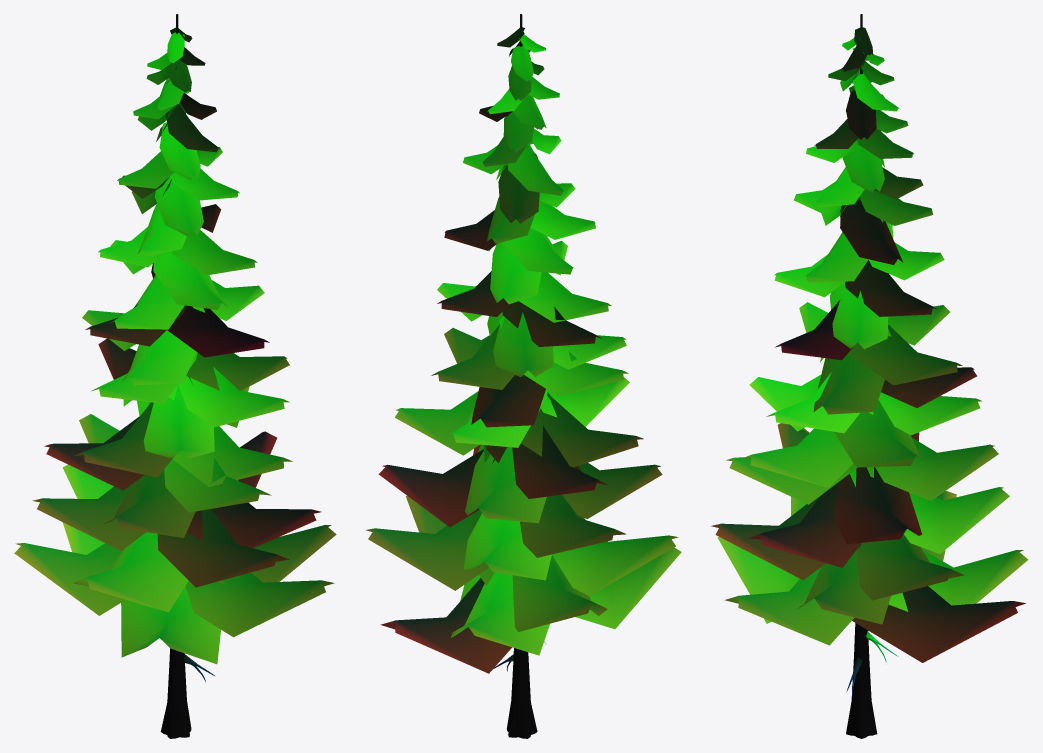
The model's file is M_Pine_6_2.fbx.
3 views of the same model, side by side, from view 1: azimuth 30°, elevation 25°; view 2: azimuth 150°, elevation 25°; view 3: azimuth 270°, elevation 25° (orthographic).
Parts seen in each view (by area): view 1: Tree_2; view 2: Tree_2; view 3: Tree_2.
Boxes of the visible parts, <box> form: Tree_2: <box>14,14,336,738</box>; Tree_2: <box>365,14,681,738</box>; Tree_2: <box>711,14,1028,738</box>.
Size of the model in its own units: 991 by 2565 by 1030.
